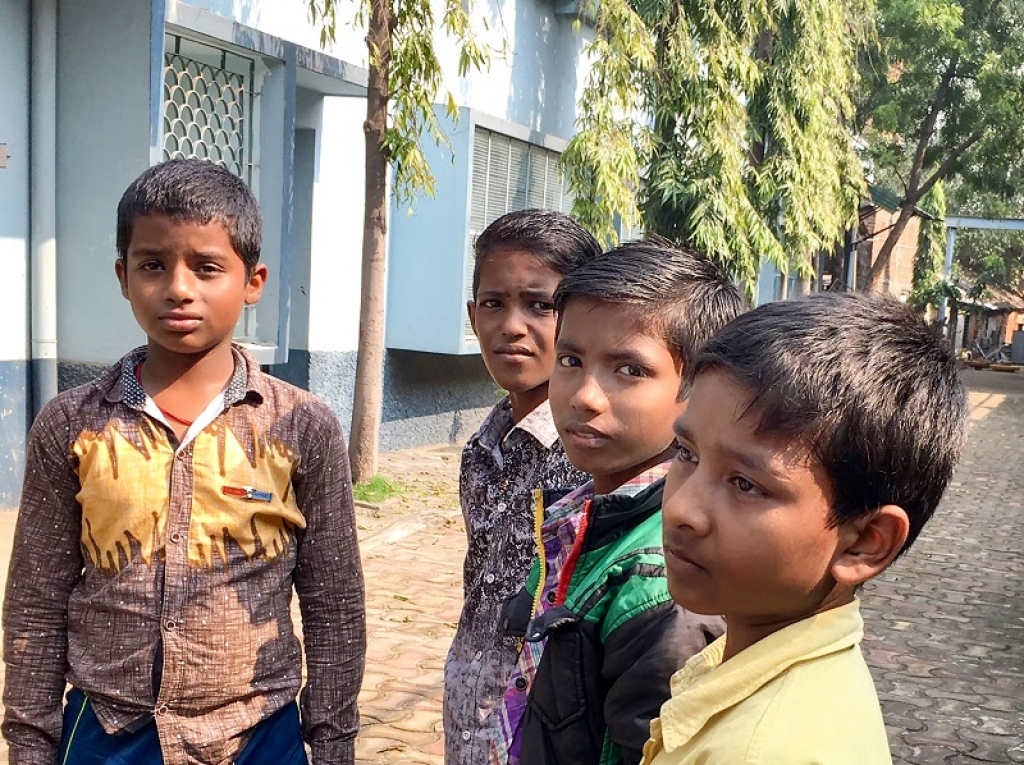person: (661, 373, 909, 617), (553, 300, 680, 466), (119, 205, 246, 348), (478, 251, 557, 393)
